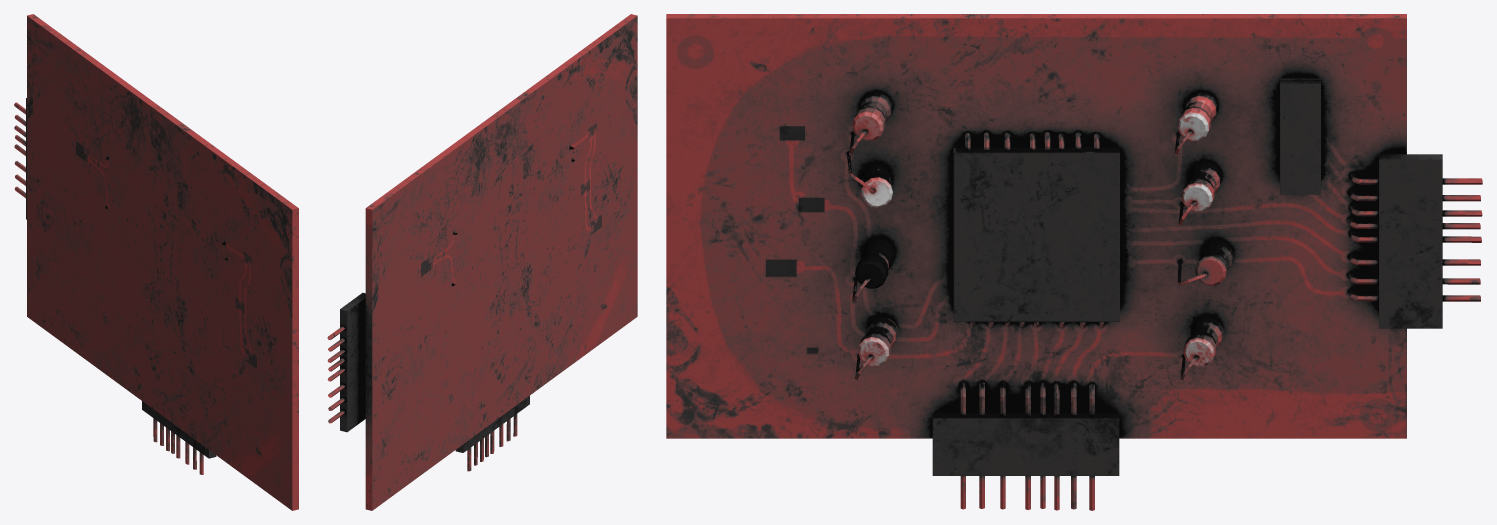
The model's file is DayZed_AS_RedCircuit.fbx.
3 renders of one model, left to right at view 1: azimuth 30°, elevation 25°; view 2: azimuth 150°, elevation 25°; view 3: azimuth 270°, elevation 25°, orthographic. The views are drawn at different scales.
Parts seen in each view (by area): view 1: model_0; view 2: model_0; view 3: model_0.
Part boxes in pixels (<box>): model_0: <box>14,14,298,510</box>; model_0: <box>327,14,637,510</box>; model_0: <box>666,14,1482,510</box>.
Bounding box in the file's own units: 24.16 × 144 × 220.
